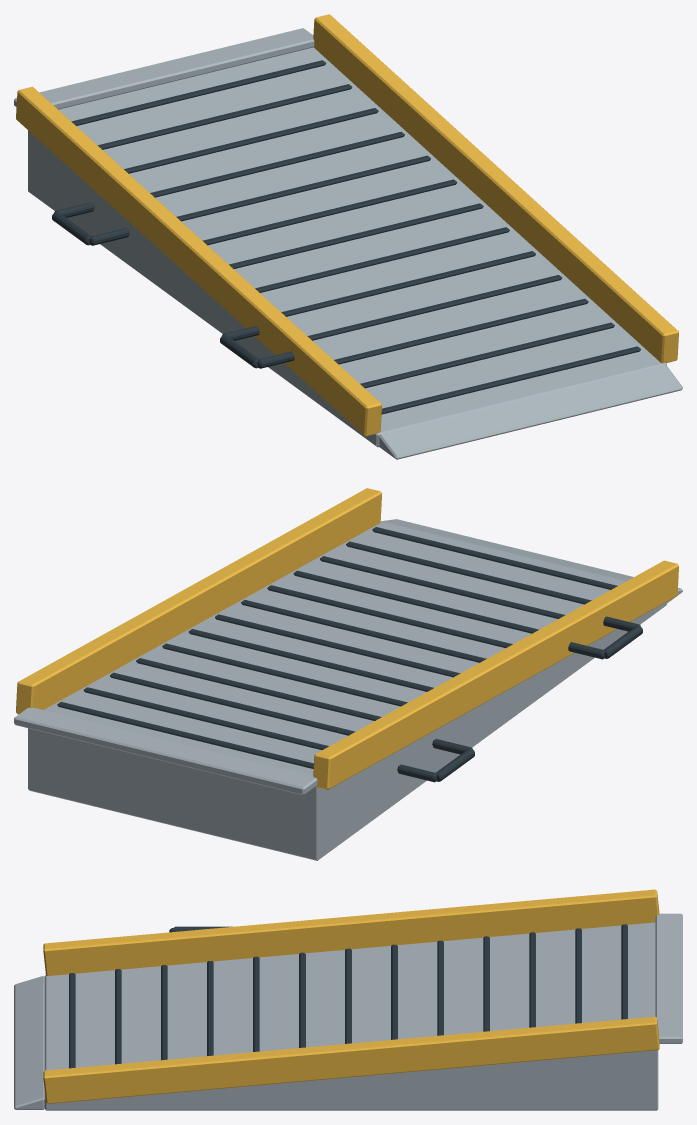
Rendered from b13_portable_rail_boarding_ramp.glb.
The picture shows the model from 3 angles, top to bottom: view 1: azimuth 30°, elevation 25°; view 2: azimuth 150°, elevation 25°; view 3: azimuth 270°, elevation 25°; orthographic projection. The views are drawn at different scales.
Parts seen in each view (by area): view 1: b13_portable_rail_boarding_ramp; view 2: b13_portable_rail_boarding_ramp; view 3: b13_portable_rail_boarding_ramp.
Boxes of the visible parts, <box> form: b13_portable_rail_boarding_ramp: <box>14,14,682,459</box>; b13_portable_rail_boarding_ramp: <box>14,488,682,860</box>; b13_portable_rail_boarding_ramp: <box>14,889,682,1110</box>.
Bounding box in the file's own units: 1.16 × 0.3343 × 2.18.
